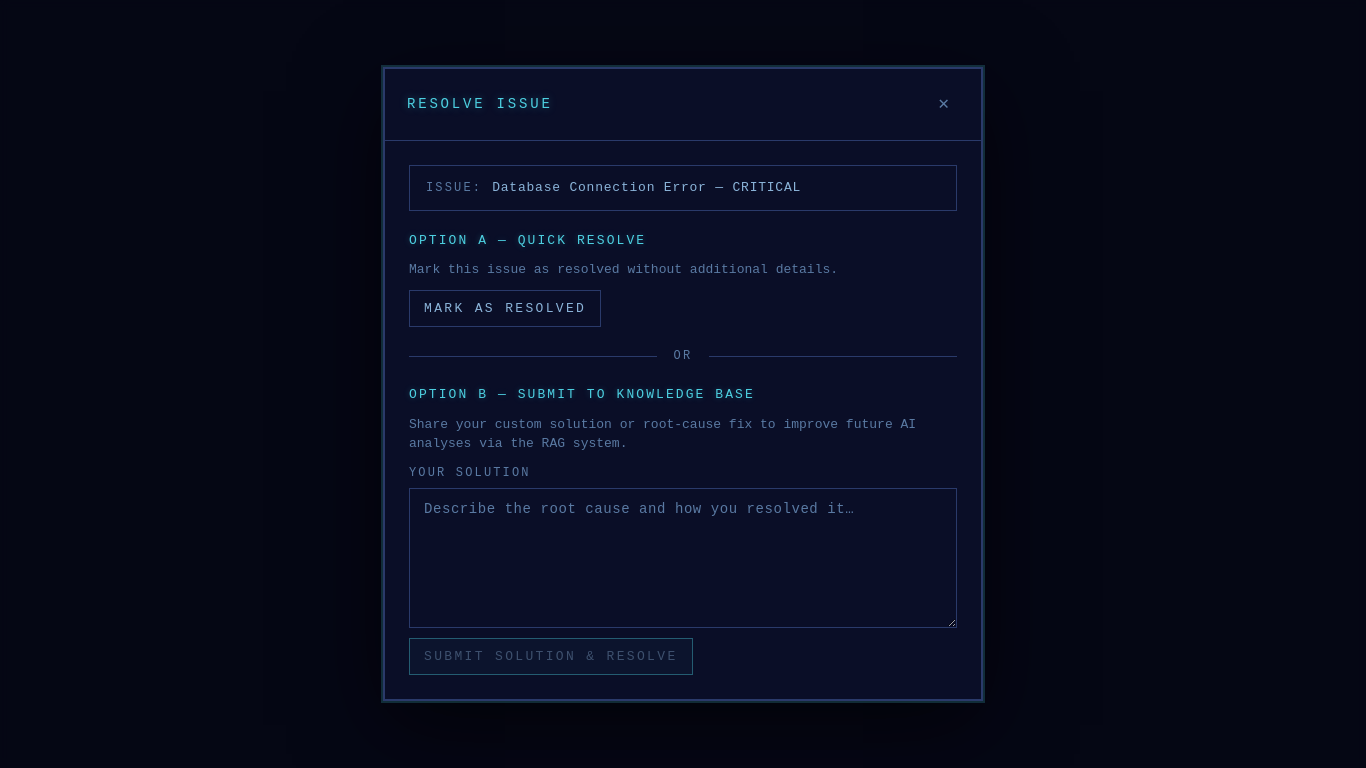
ResolveModal › should enable RAG submit button when textarea has content
Type "Restart the database container" into the text box labelled "Your Solution".
click(683, 558); type("Restart the database container")  # box x1=409 y1=488 x2=957 y2=628
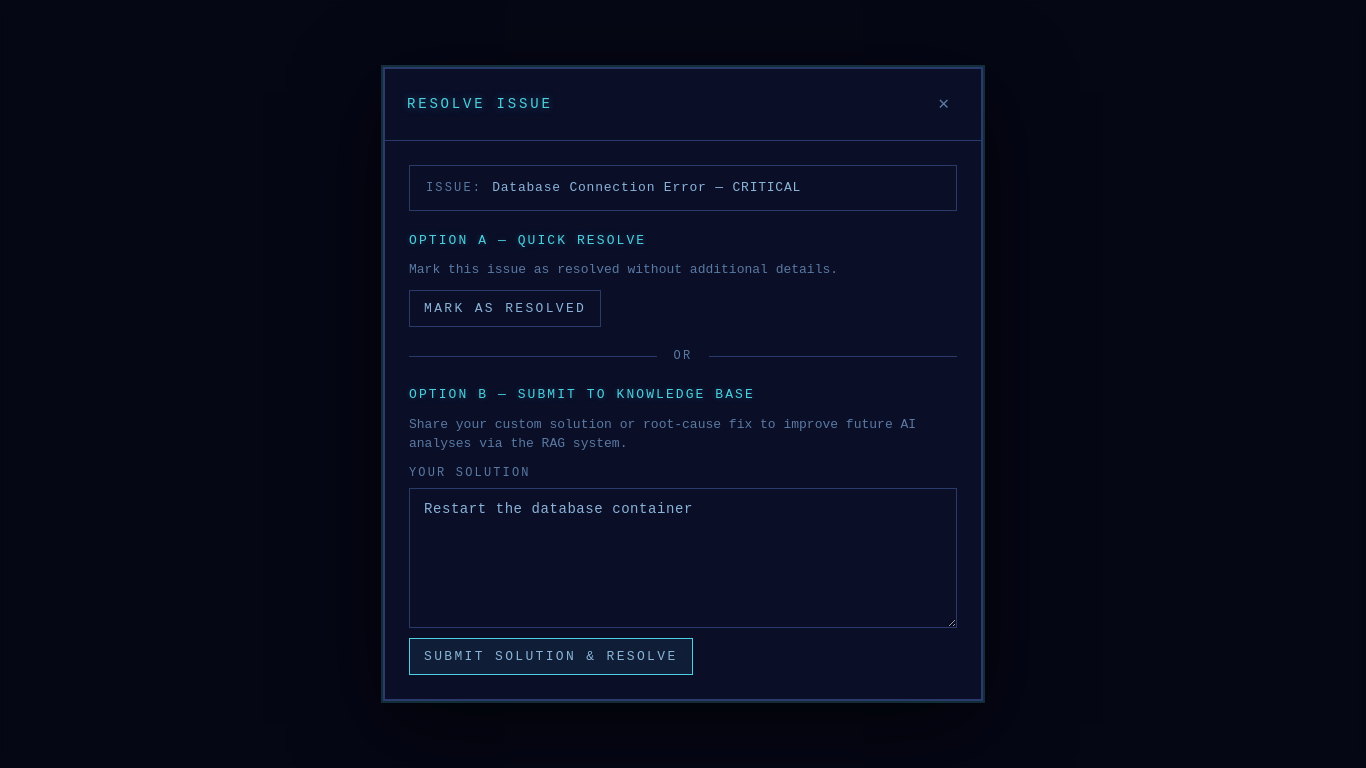
Now the button "Submit Solution & Resolve" is enabled, box x1=409 y1=638 x2=692 y2=675
